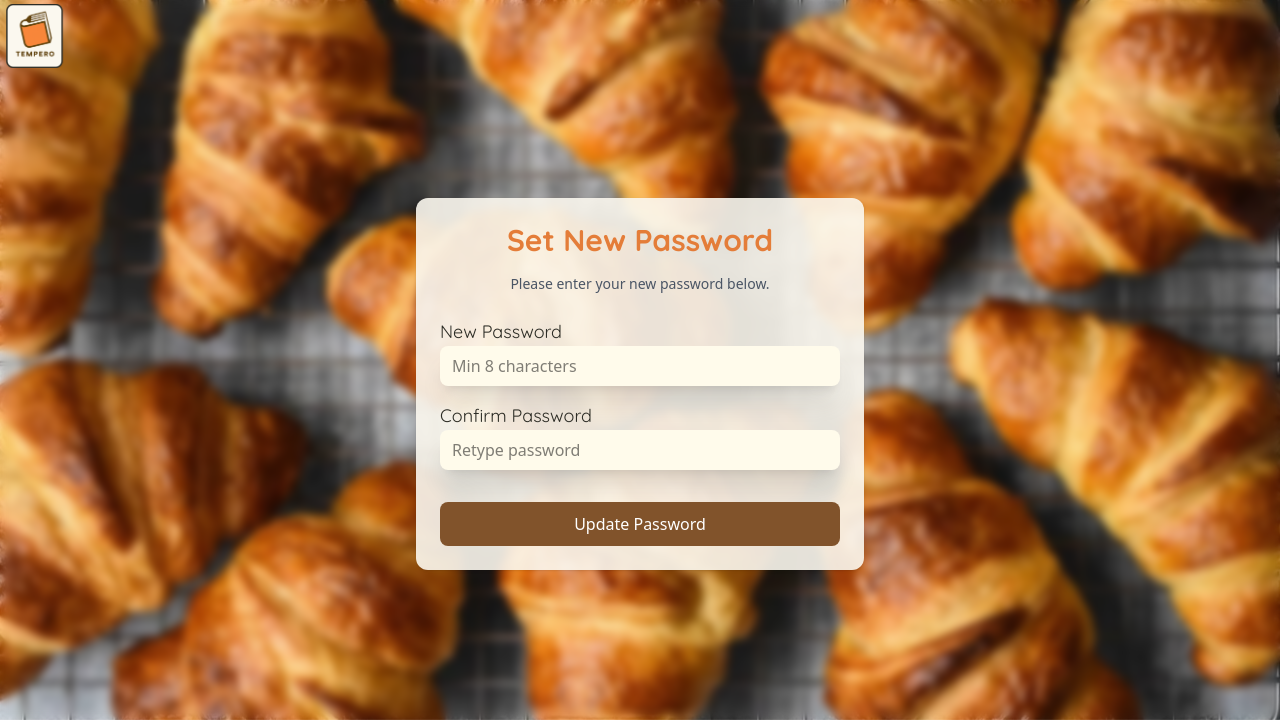
Test: UpdatePasswordPage › mostra erro quando validatePassword devolve mensagem
The image size is (1280, 720).
Type "weak" into the password field labelled "New Password".
click(640, 366); type("weak")  # box [440, 346, 840, 386]
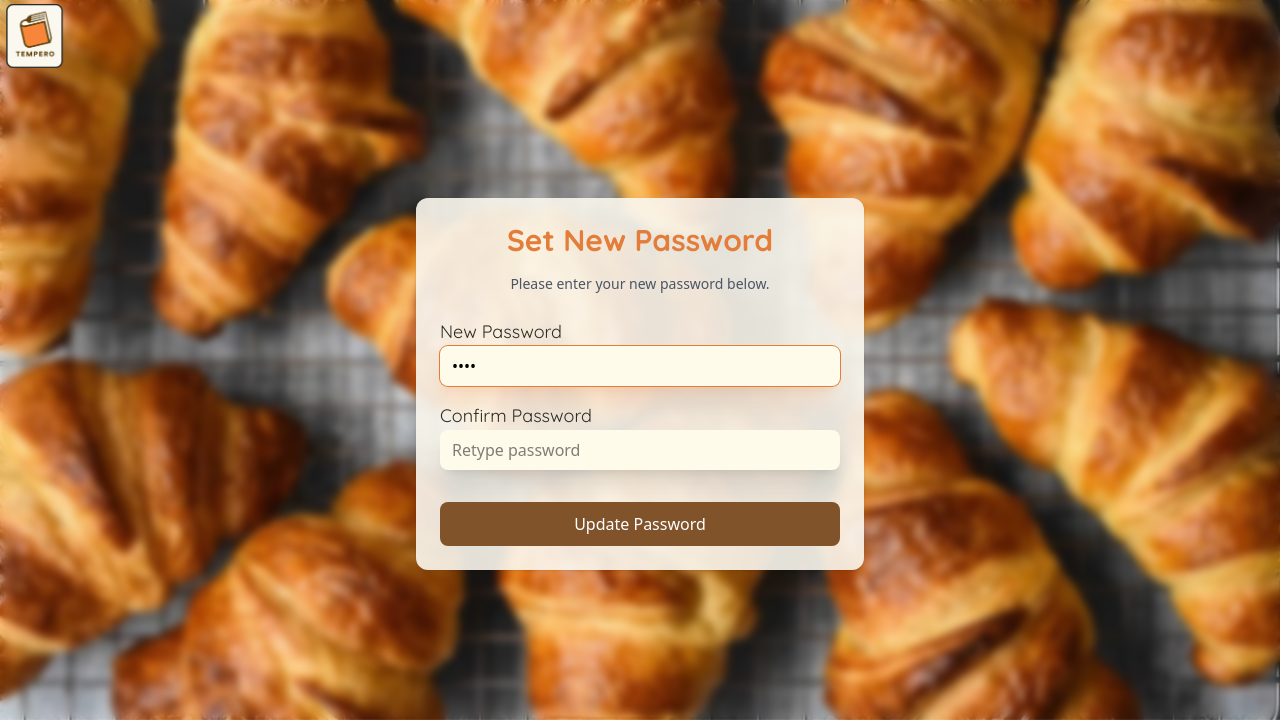
Type "weak" into the password field labelled "Confirm Password".
click(640, 450); type("weak")  # box [440, 430, 840, 470]
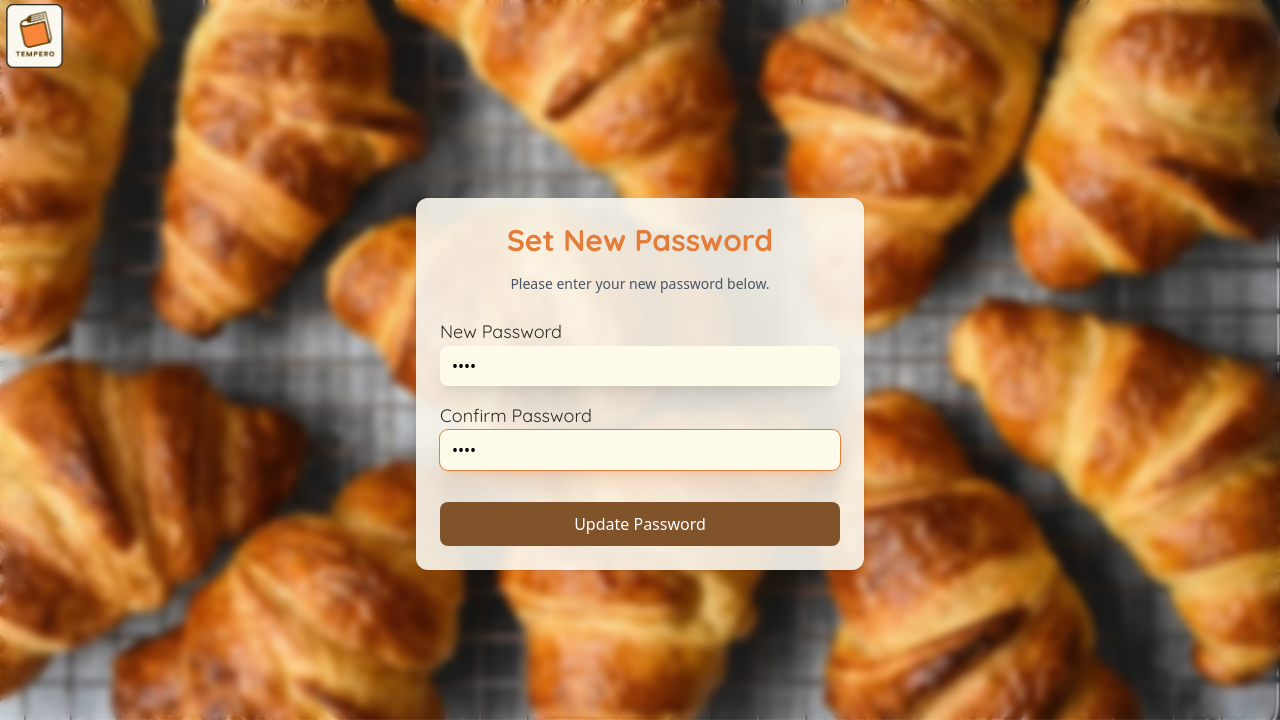
Click the button "Update Password".
click(640, 524)  # box [440, 502, 840, 546]
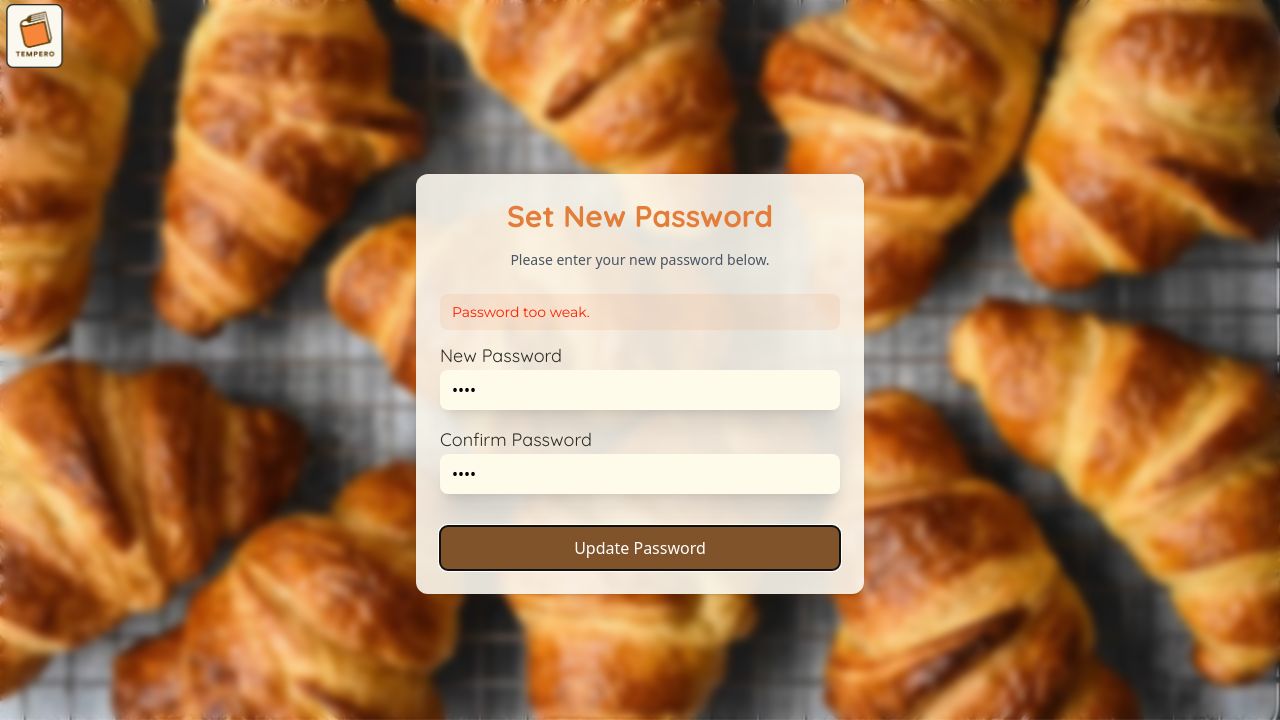
Now the text "Password too weak." is shown, box [440, 294, 840, 330]
